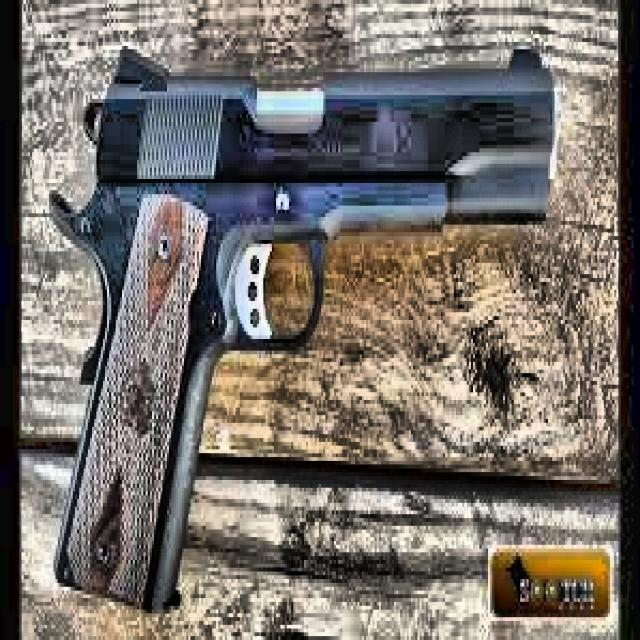Colt m1911: (47, 38, 559, 610)
